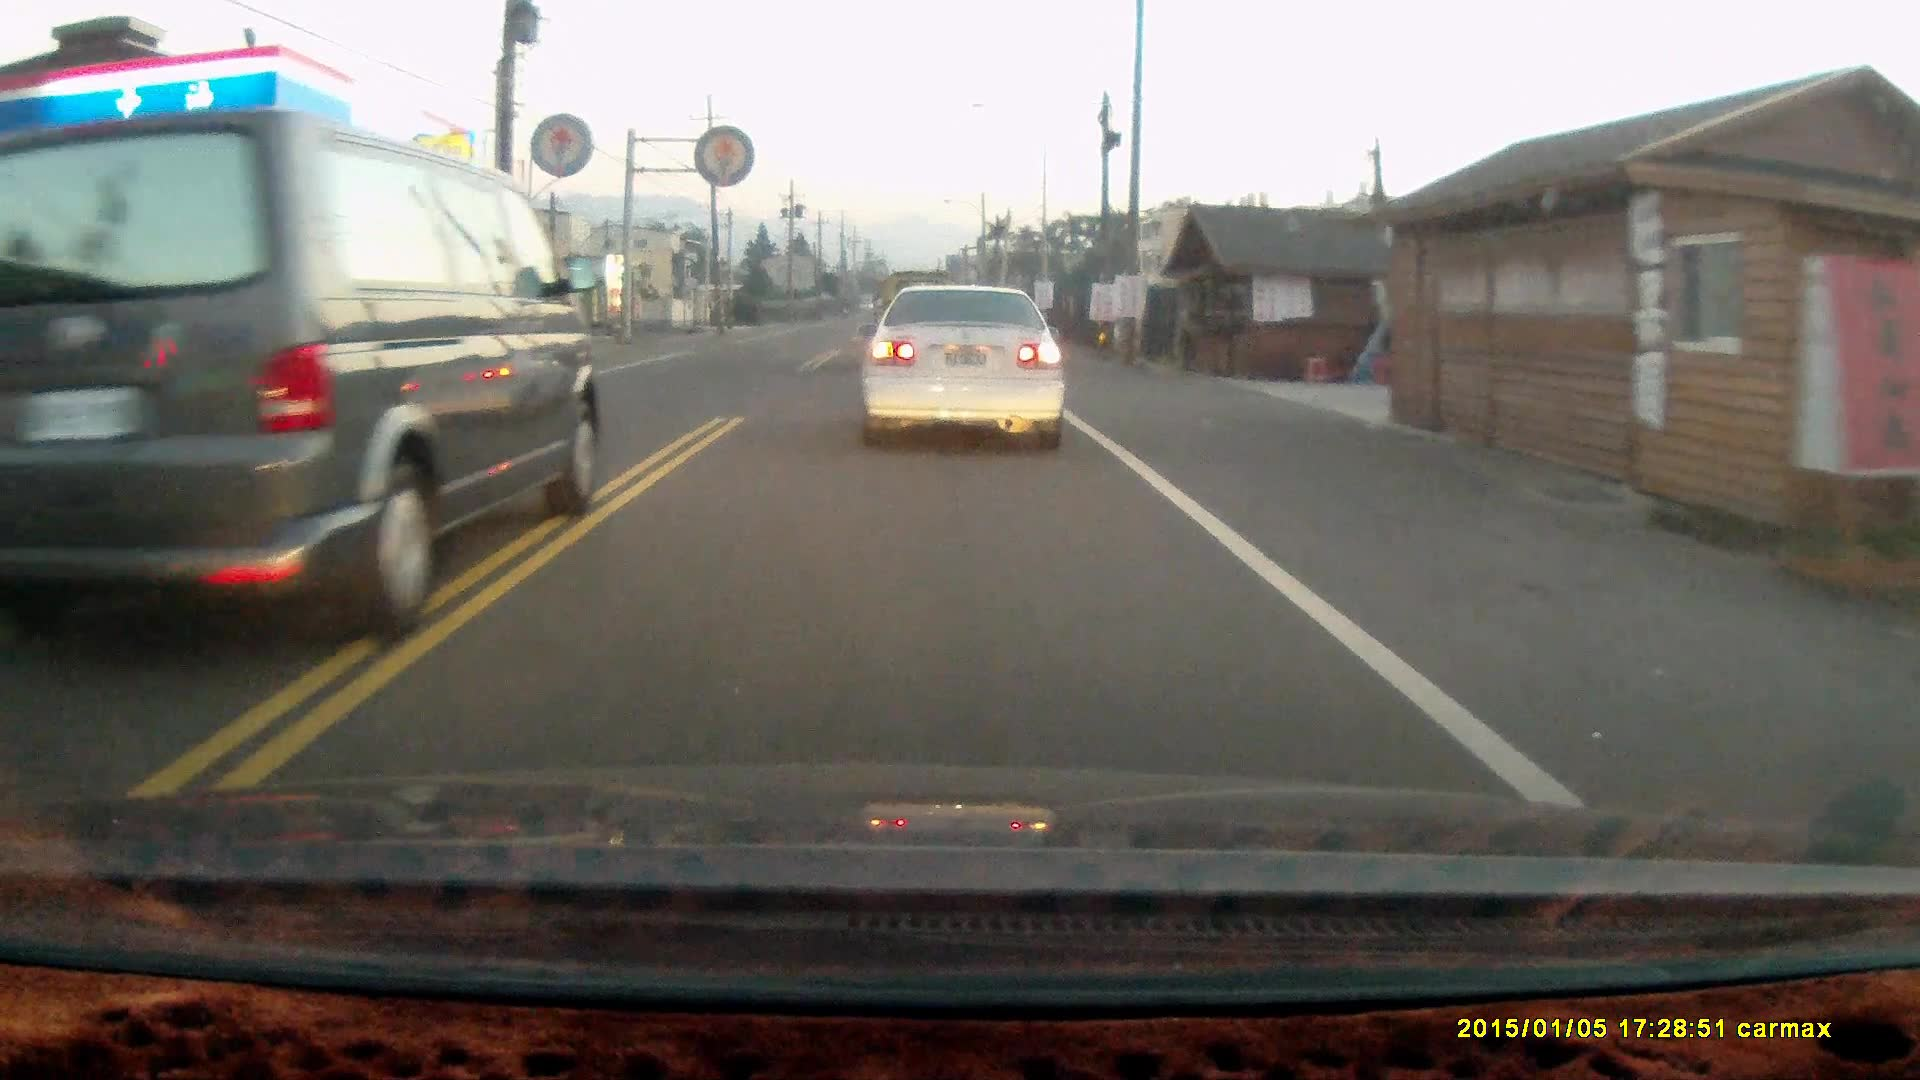vehicle: (1, 113, 600, 638), (862, 280, 1069, 455)
